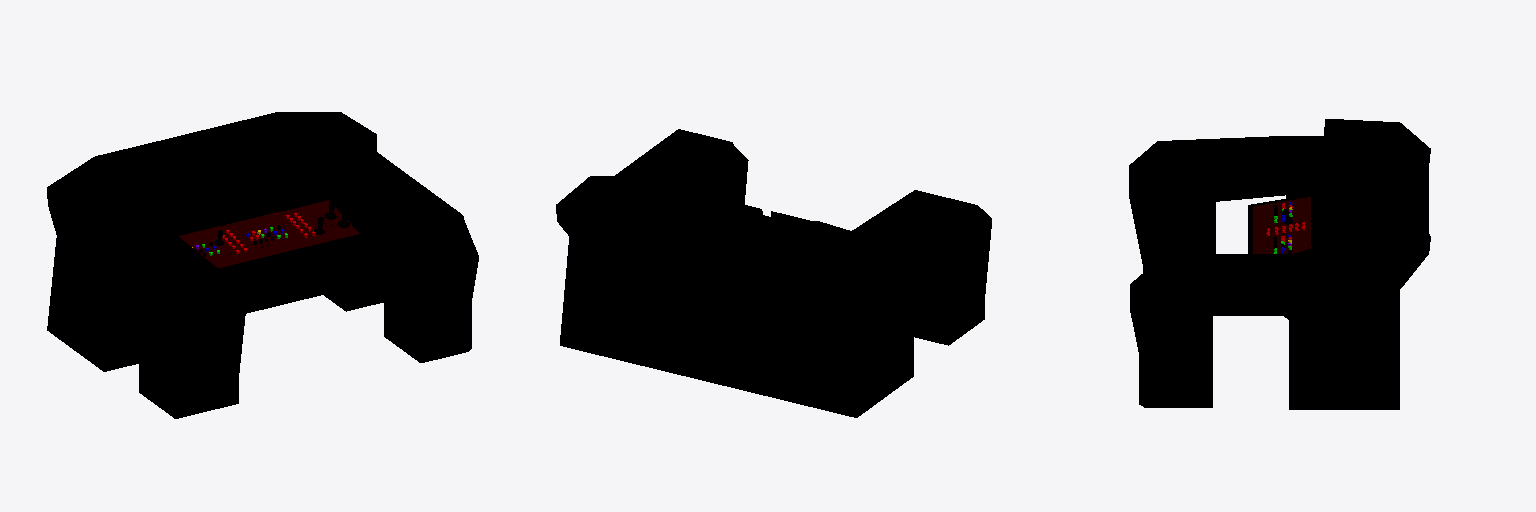
The model's file is Computer-Lab-Module.obj.
3 renders of one model, left to right at view 1: azimuth 30°, elevation 25°; view 2: azimuth 150°, elevation 25°; view 3: azimuth 270°, elevation 25°, orthographic.
Visible parts, largest first — view 1: Object_1.001; view 2: Object_1.001; view 3: Object_1.001.
Boxes of the visible parts, x1,y1,x2,y2 form: Object_1.001: [47, 112, 478, 418]; Object_1.001: [556, 129, 991, 417]; Object_1.001: [1129, 119, 1430, 409].
Size of the model in its own units: 9.43 by 4.96 by 8.28.